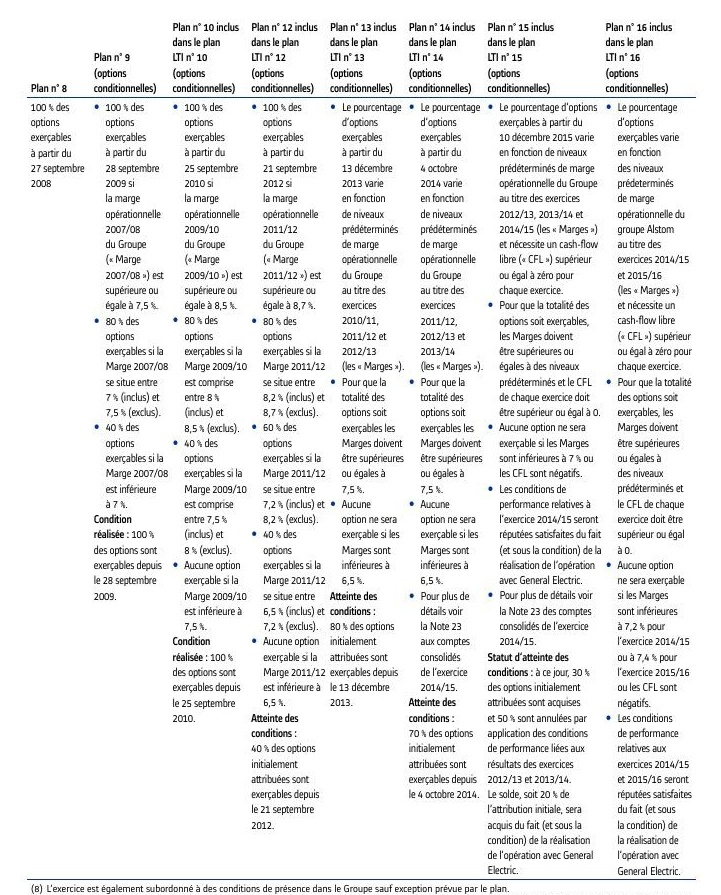table: (0, 0, 721, 895)
